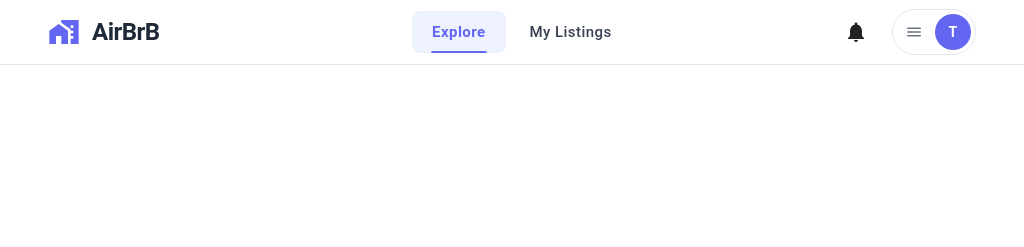
NavBar Component › opens user menu when user avatar is clicked
The width and height of the screenshot is (1024, 247).
Click the button "T" at (934, 32), box [892, 9, 976, 55]
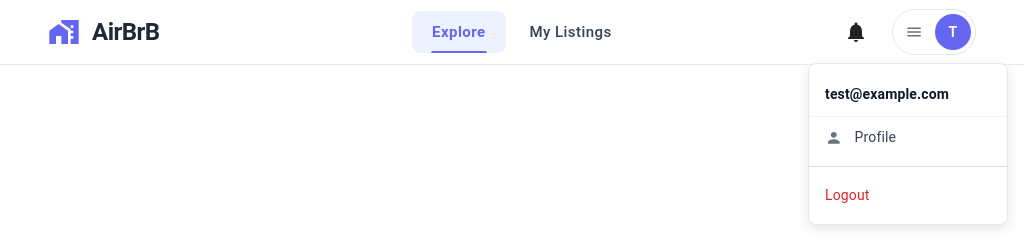
Check: the menu item "Profile" is shown, box [825, 129, 896, 146]
Check: the menu item "Logout" is shown, box [825, 187, 870, 203]
